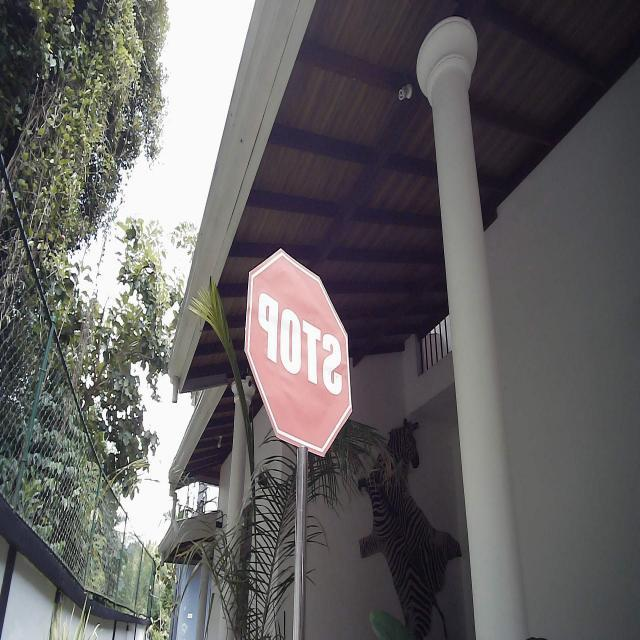stop: (242, 244, 354, 461)
